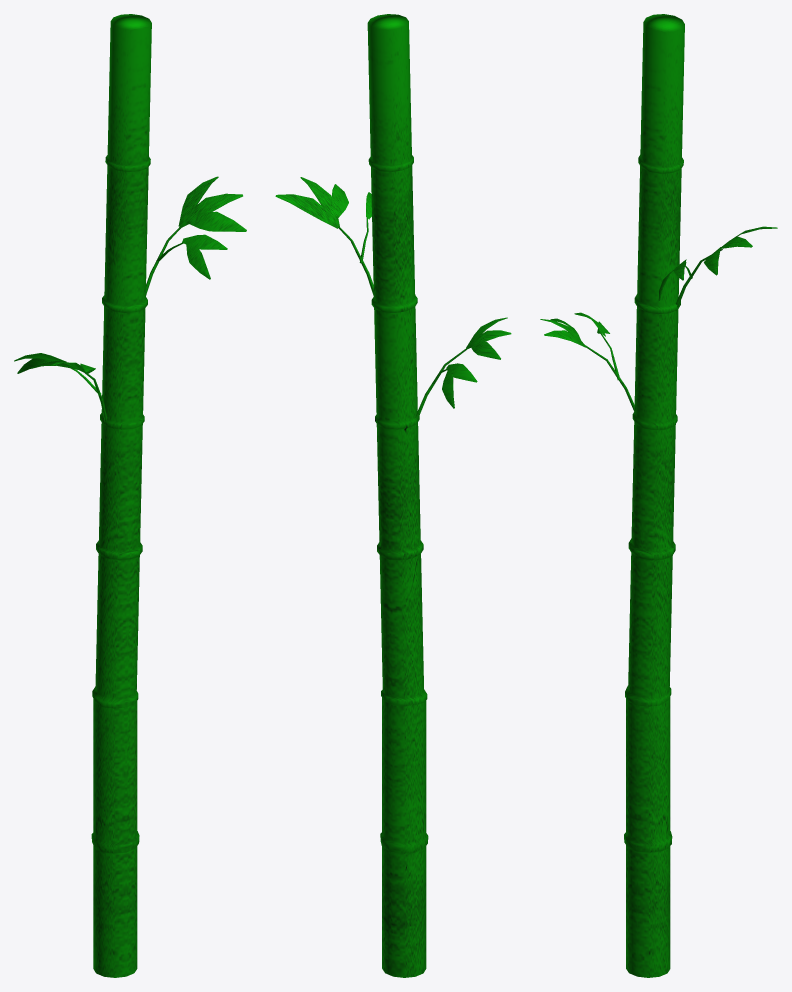
File: takeNEW.fbx
The picture shows the model from 3 angles, left to right: view 1: azimuth 30°, elevation 25°; view 2: azimuth 150°, elevation 25°; view 3: azimuth 330°, elevation 25°; orthographic projection.
Parts seen in each view (by area): view 1: pCylinder1, pasted__pasted__pasted__pasted__pCube2, pasted__pasted__pasted__pasted__pasted__pCube2, pasted__pasted__pasted__pasted__pasted__pasted__pCube2; view 2: pCylinder1, pasted__pasted__pasted__pasted__pasted__pasted__pCube2; view 3: pCylinder1.
Boxes of the visible parts, left/top/right/bottom form: pCylinder1: left=91, top=14, right=151, bottom=977; pasted__pasted__pasted__pasted__pCube2: left=186, top=211, right=246, bottom=231; pasted__pasted__pasted__pasted__pasted__pCube2: left=179, top=193, right=242, bottom=227; pasted__pasted__pasted__pasted__pasted__pasted__pCube2: left=178, top=176, right=218, bottom=226; pCylinder1: left=367, top=14, right=428, bottom=977; pasted__pasted__pasted__pasted__pasted__pasted__pCube2: left=275, top=194, right=339, bottom=228; pCylinder1: left=624, top=14, right=684, bottom=977.
Size of the model in its own units: 4.89 by 21.37 by 2.71.
1 material, 1 textured.
